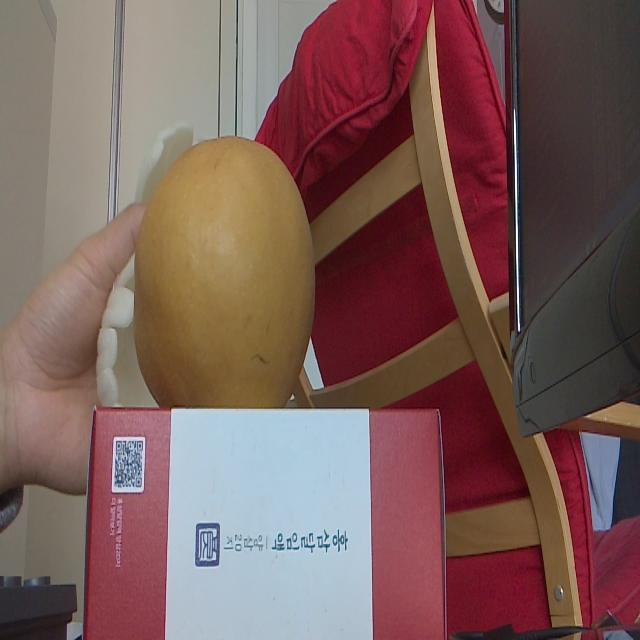pear: (131, 137, 323, 405)
